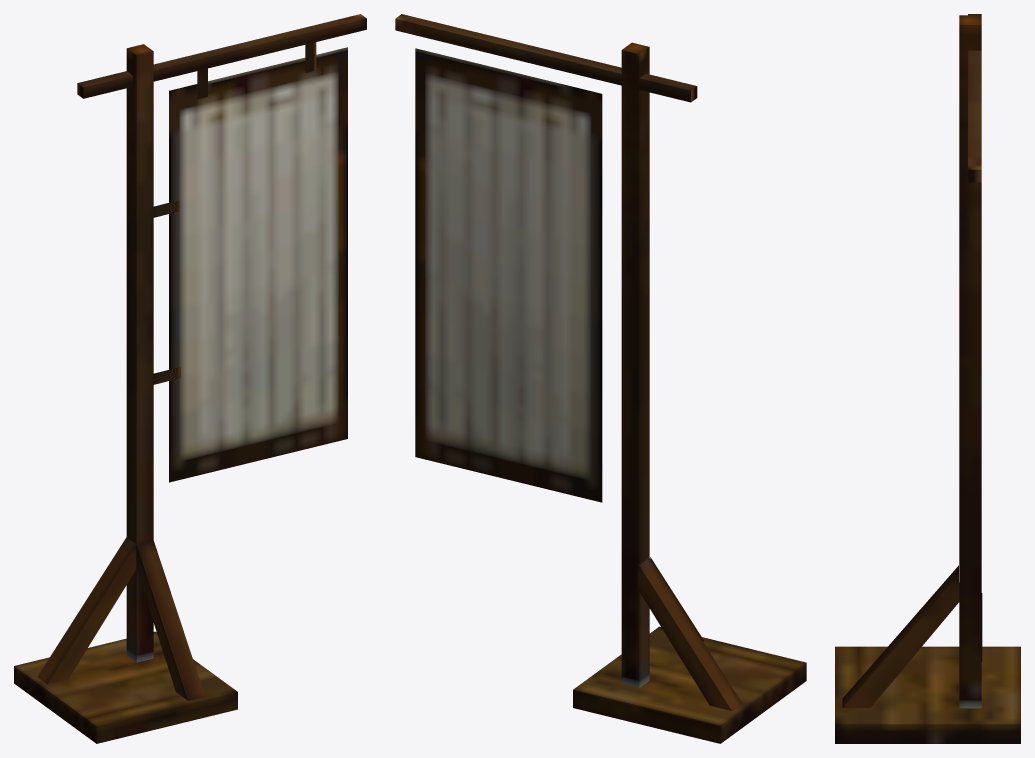
The model's file is ob-standganpan-04.glb.
3 renders of one model, left to right at view 1: azimuth 30°, elevation 25°; view 2: azimuth 150°, elevation 25°; view 3: azimuth 270°, elevation 25°, orthographic. The views are drawn at different scales.
Visible parts, largest first — view 1: Box01; view 2: Box01; view 3: Box01.
Boxes of the visible parts, <box> form: Box01: <box>14,14,366,743</box>; Box01: <box>395,14,806,743</box>; Box01: <box>835,14,1020,743</box>.
Size of the model in its own units: 1.53 by 2.78 by 0.6658.
Materials: 1 (1 with a texture image).
